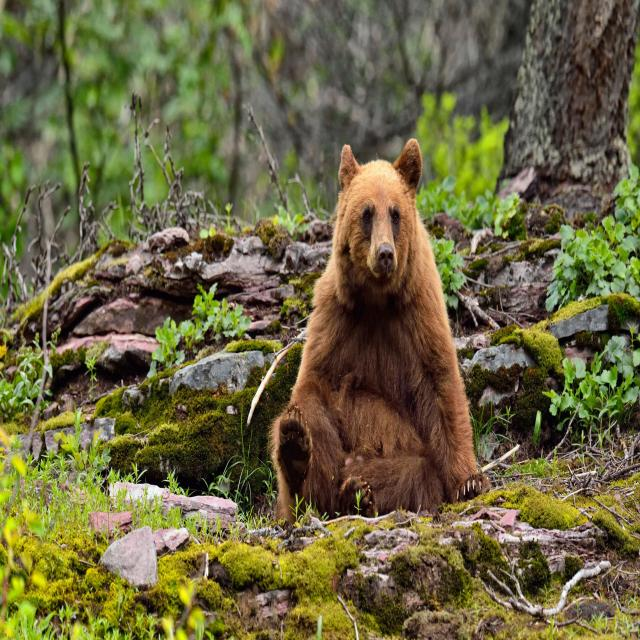Bear: (269, 139, 487, 523)
